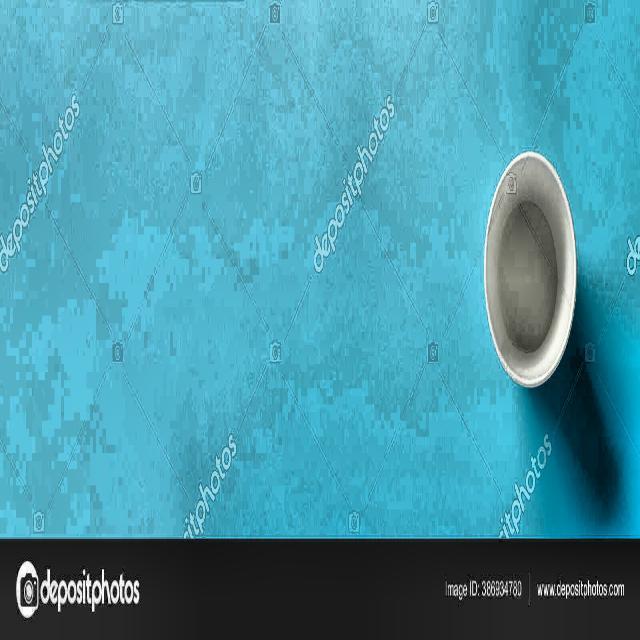Cup: (480, 144, 580, 390)
